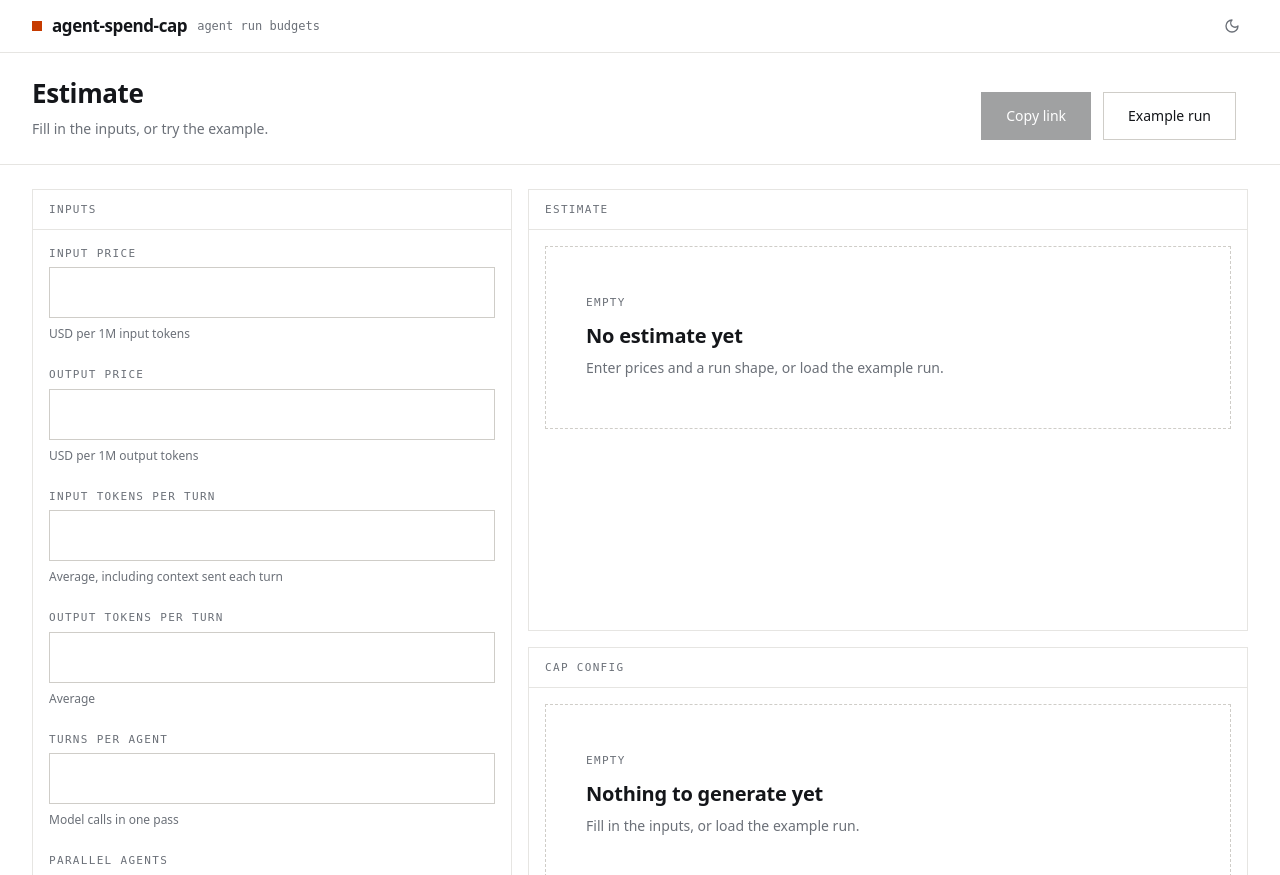
Test: App › CH6: an invalid value alerts and leaves the estimate empty
Type "abc" into the field labelled "Input price" at (272, 293), box [49,267,495,318]
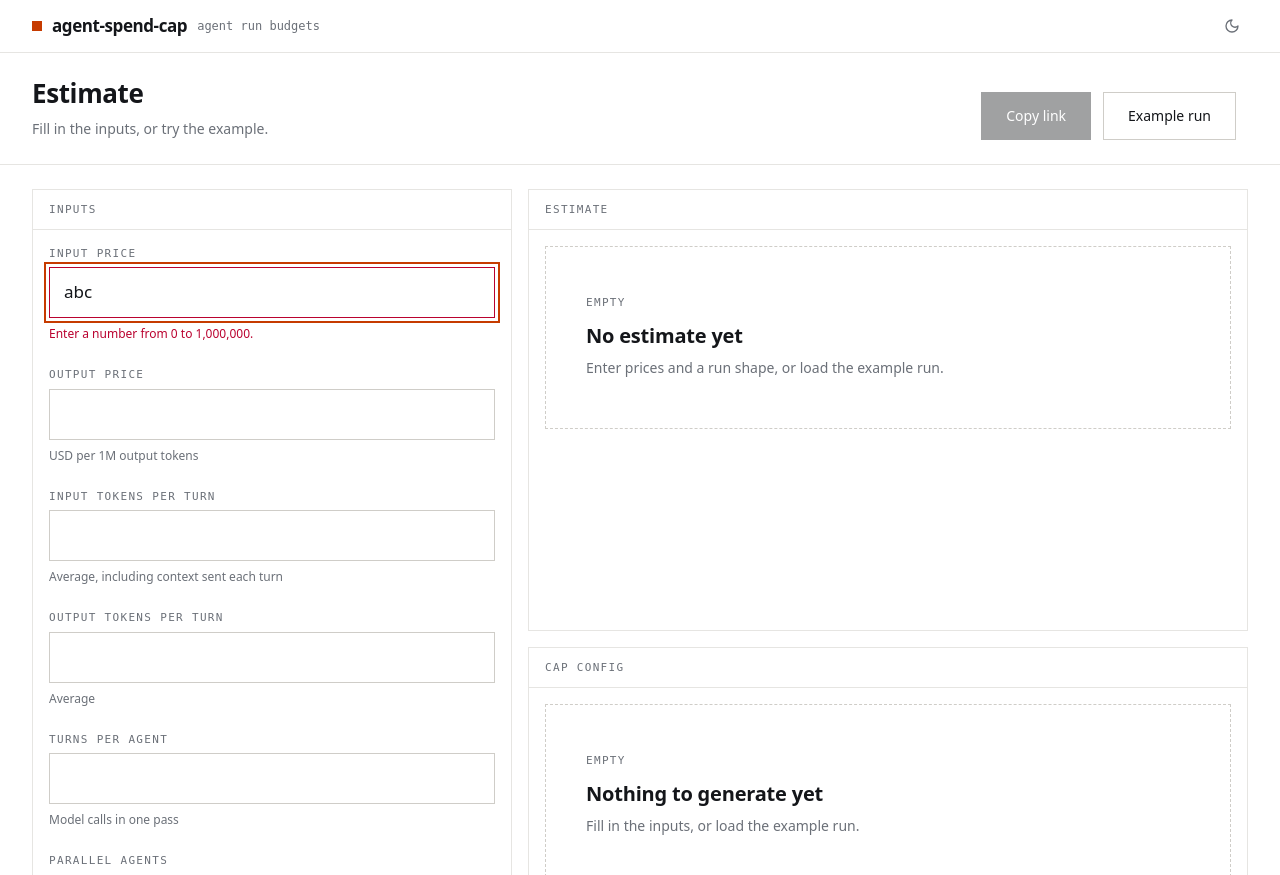
Expected: the text "No estimate yet" is shown, [586,322,743,349]
Result: the message reads "Enter a number from 0 to 1,000,000." at [49,325,253,342]
